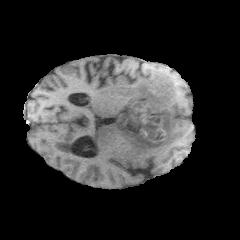glioma: (116, 71, 184, 153)
